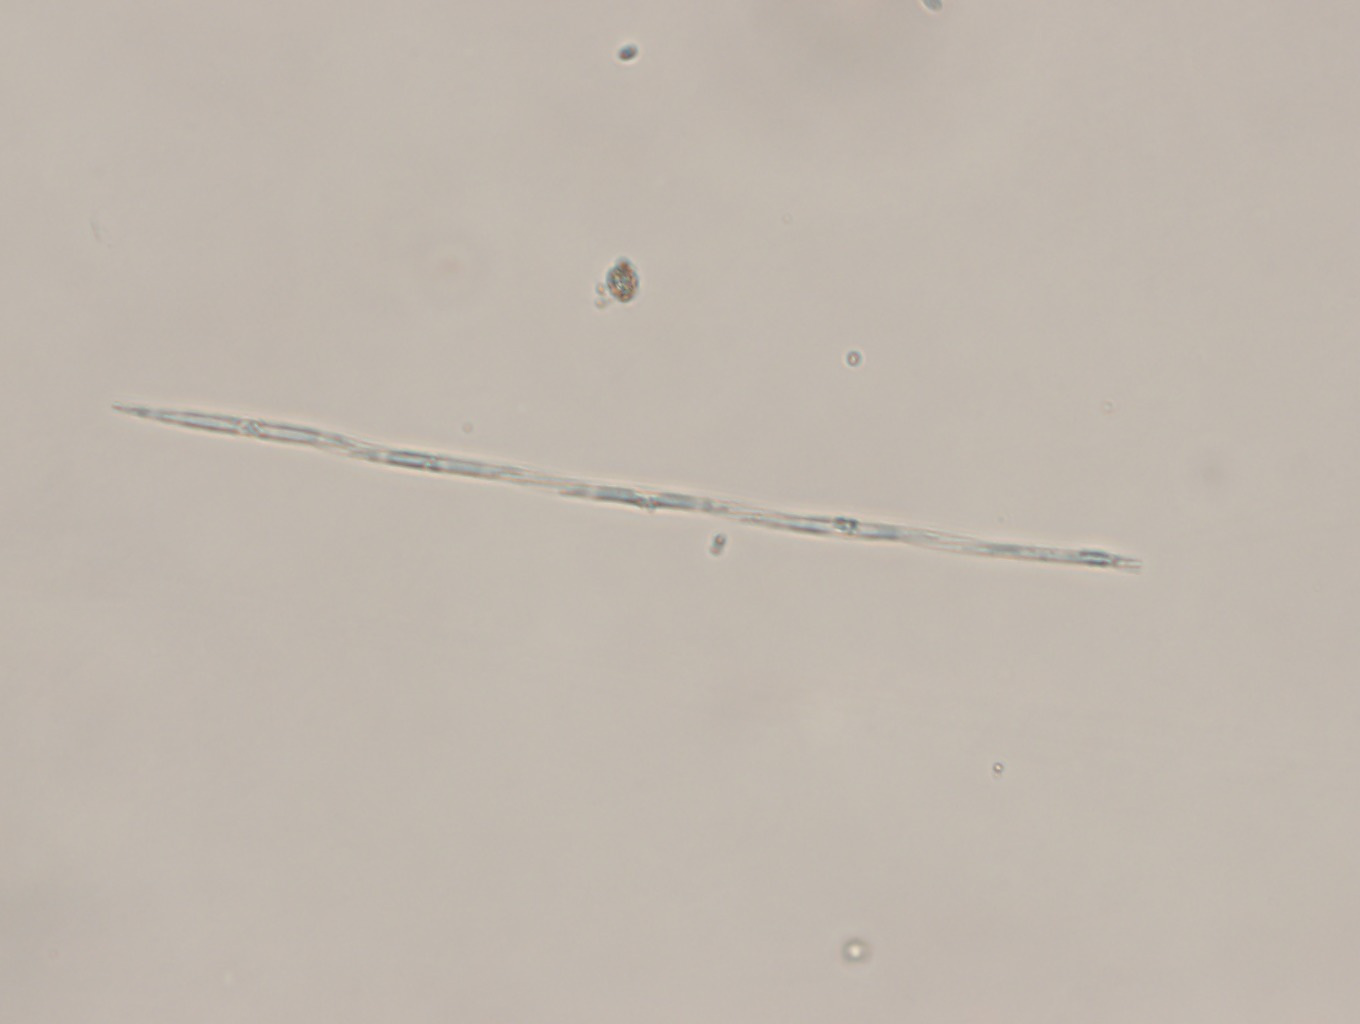ceratium fusus: (104, 390, 1153, 587)
